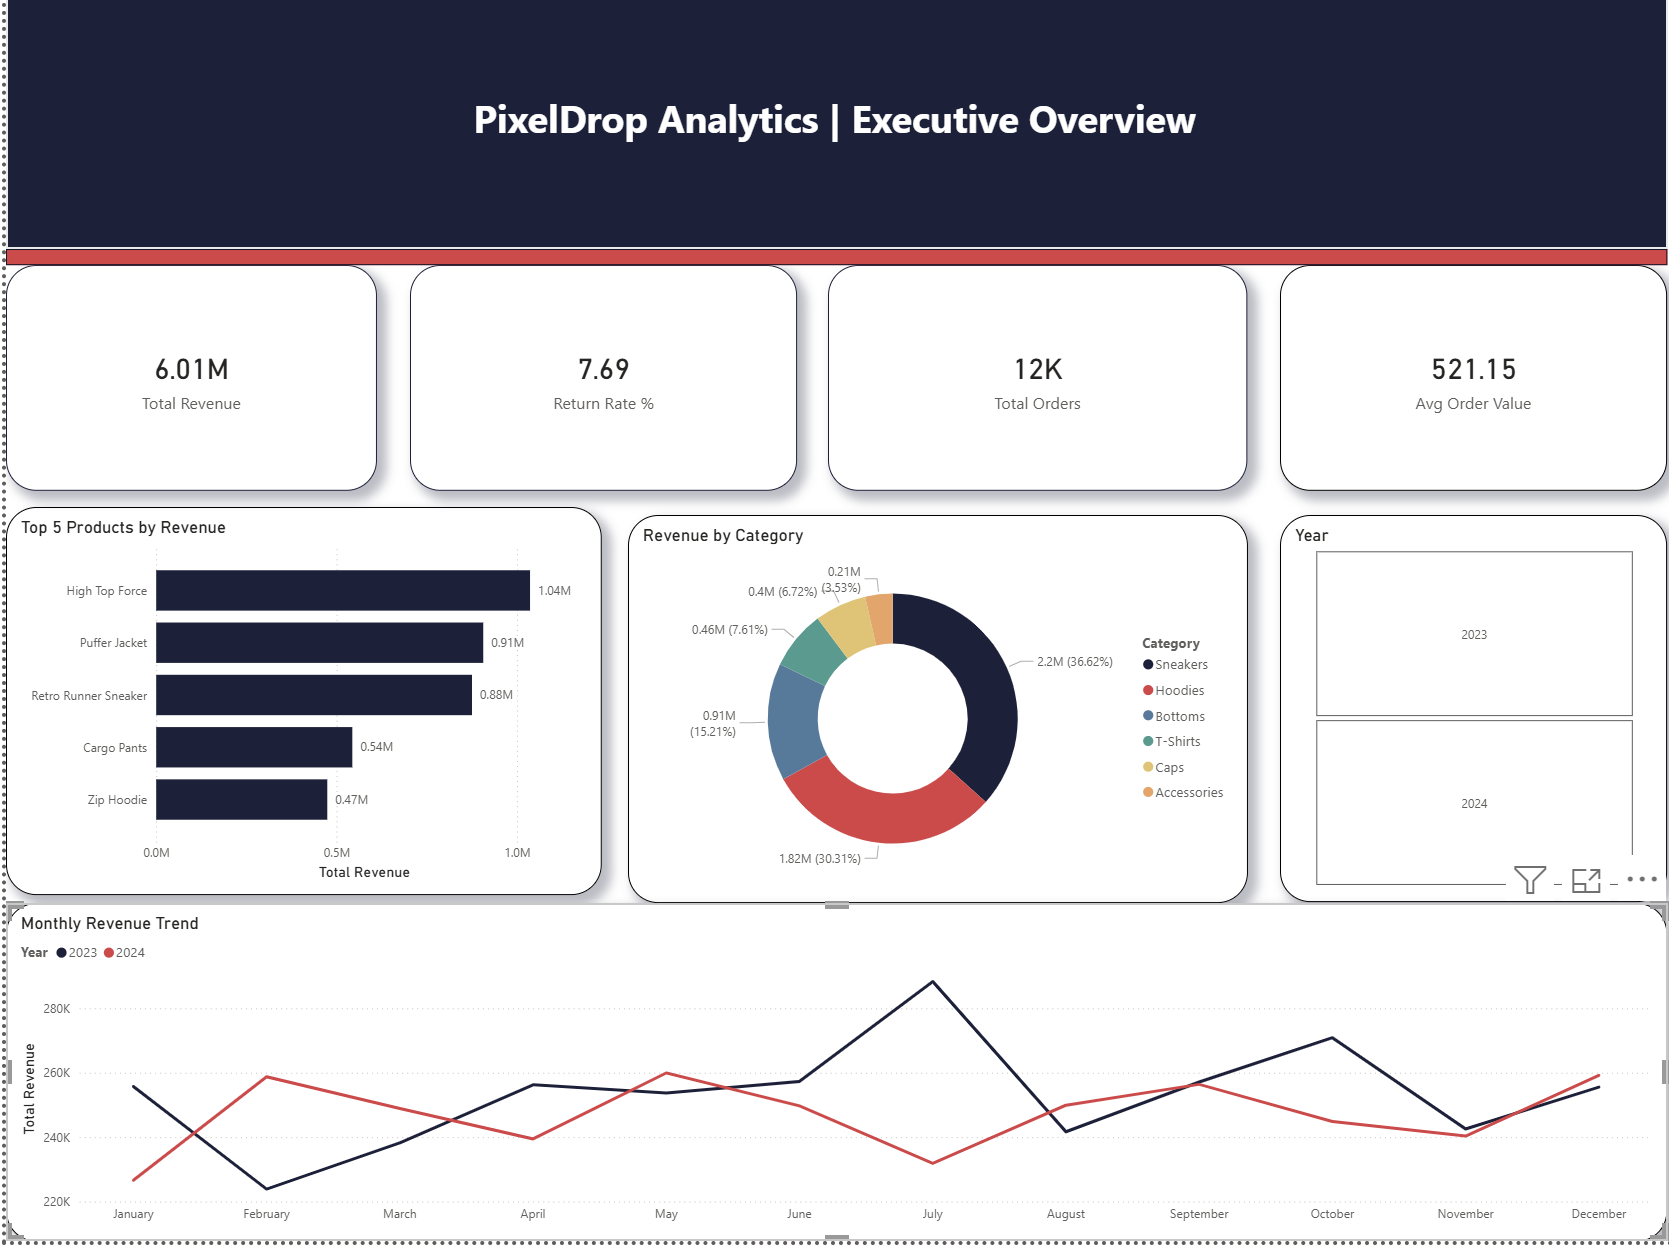

What the dashboard file says about the page in this screenshot:
{"tool":"powerbi","page":{"name":"Executive Overview","canvas":[1650,1240],"ordinal":0},"visuals":[{"type":"card","fields":{"Values":["Measures_.Total Revenue"]},"box":[0,272,368,224],"z":0},{"type":"card","fields":{"Values":["Measures_.Avg Order Value"]},"box":[1264,272,384,224],"z":1000},{"type":"card","fields":{"Values":["Measures_.Return Rate %"]},"box":[400,272,384,224],"z":2000},{"type":"card","fields":{"Values":["Measures_.Total Orders"]},"box":[816,272,416,224],"z":3000},{"type":"shape","box":[0,0,1648,256],"z":4000},{"type":"textbox","box":[-6,96,1656,264],"z":5000},{"type":"shape","box":[0,256,1648,16],"z":6000},{"type":"lineChart","title":"Monthly Revenue Trend","fields":{"Category":["DimDate.Month Name EN"],"Y":["Measures_.Total Revenue"],"Series":["DimDate.Year"]},"box":[0,904,1648,336],"z":7000},{"type":"donutChart","title":"Revenue by Category","fields":{"Category":["vw_order_summary.category"],"Y":["Measures_.Total Revenue"]},"box":[617,519.8,615,384.9],"z":8000},{"type":"clusteredBarChart","title":"Top 5 Products by Revenue","fields":{"Category":["vw_order_summary.product_name"],"Y":["Measures_.Total Revenue"]},"box":[0,511.9,591.2,384.9],"z":9000},{"type":"slicer","title":"Year","fields":{"Values":["DimDate.Year"]},"box":[1264,520,384,384],"z":10000}]}

Visuals, with their boxes in screenshot pixels (x1, y1, x2, y2), scaled from the page's 1650x1240 canvas onto the 1669x1245 screenshot:
card - Measures_.Total Revenue: crop(0, 273, 372, 498)
card - Measures_.Avg Order Value: crop(1279, 273, 1667, 498)
card - Measures_.Return Rate %: crop(405, 273, 793, 498)
card - Measures_.Total Orders: crop(825, 273, 1246, 498)
shape: crop(0, 0, 1667, 257)
textbox: crop(0, 96, 1668, 361)
shape: crop(0, 257, 1667, 273)
"Monthly Revenue Trend" lineChart: crop(0, 908, 1667, 1244)
"Revenue by Category" donutChart: crop(624, 522, 1246, 908)
"Top 5 Products by Revenue" clusteredBarChart: crop(0, 514, 598, 900)
"Year" slicer: crop(1279, 522, 1667, 908)
